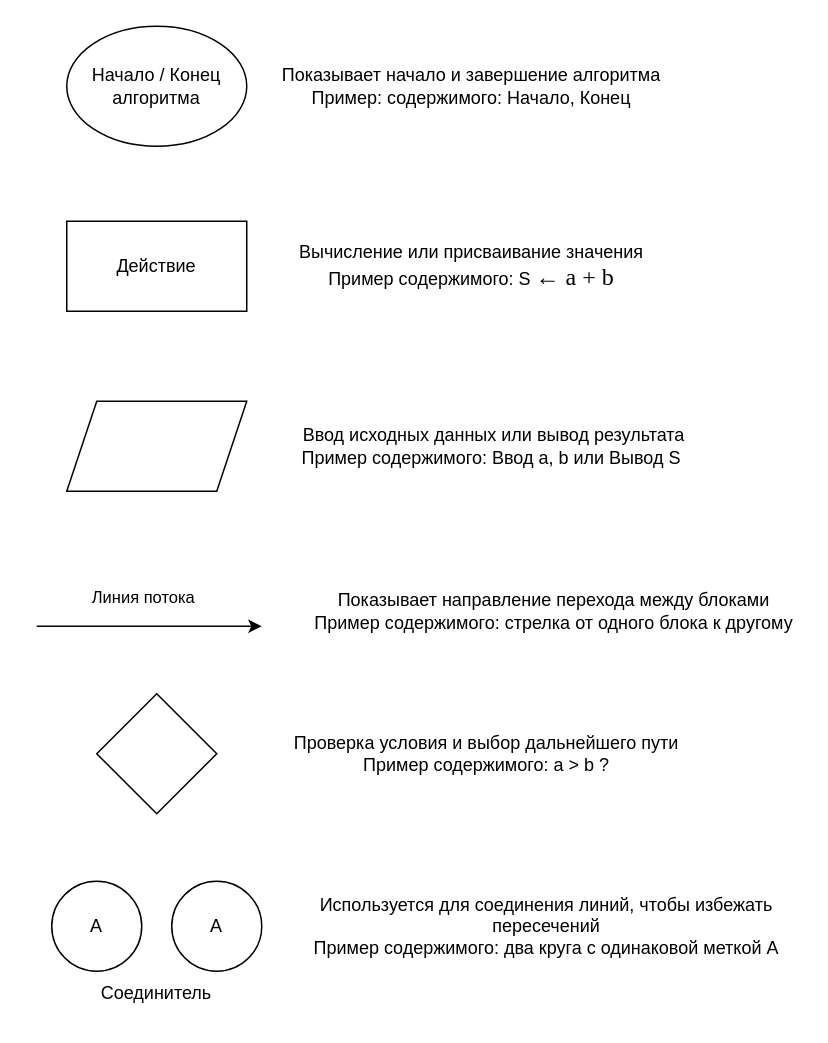
Image size: 828x1043. Some labels were removed from this diagram. The centre of each missing label's shape, as x and y in pixels:
"Ввод / вывод данных" belongs at [156,445].
"Условие" belongs at [156,753].
